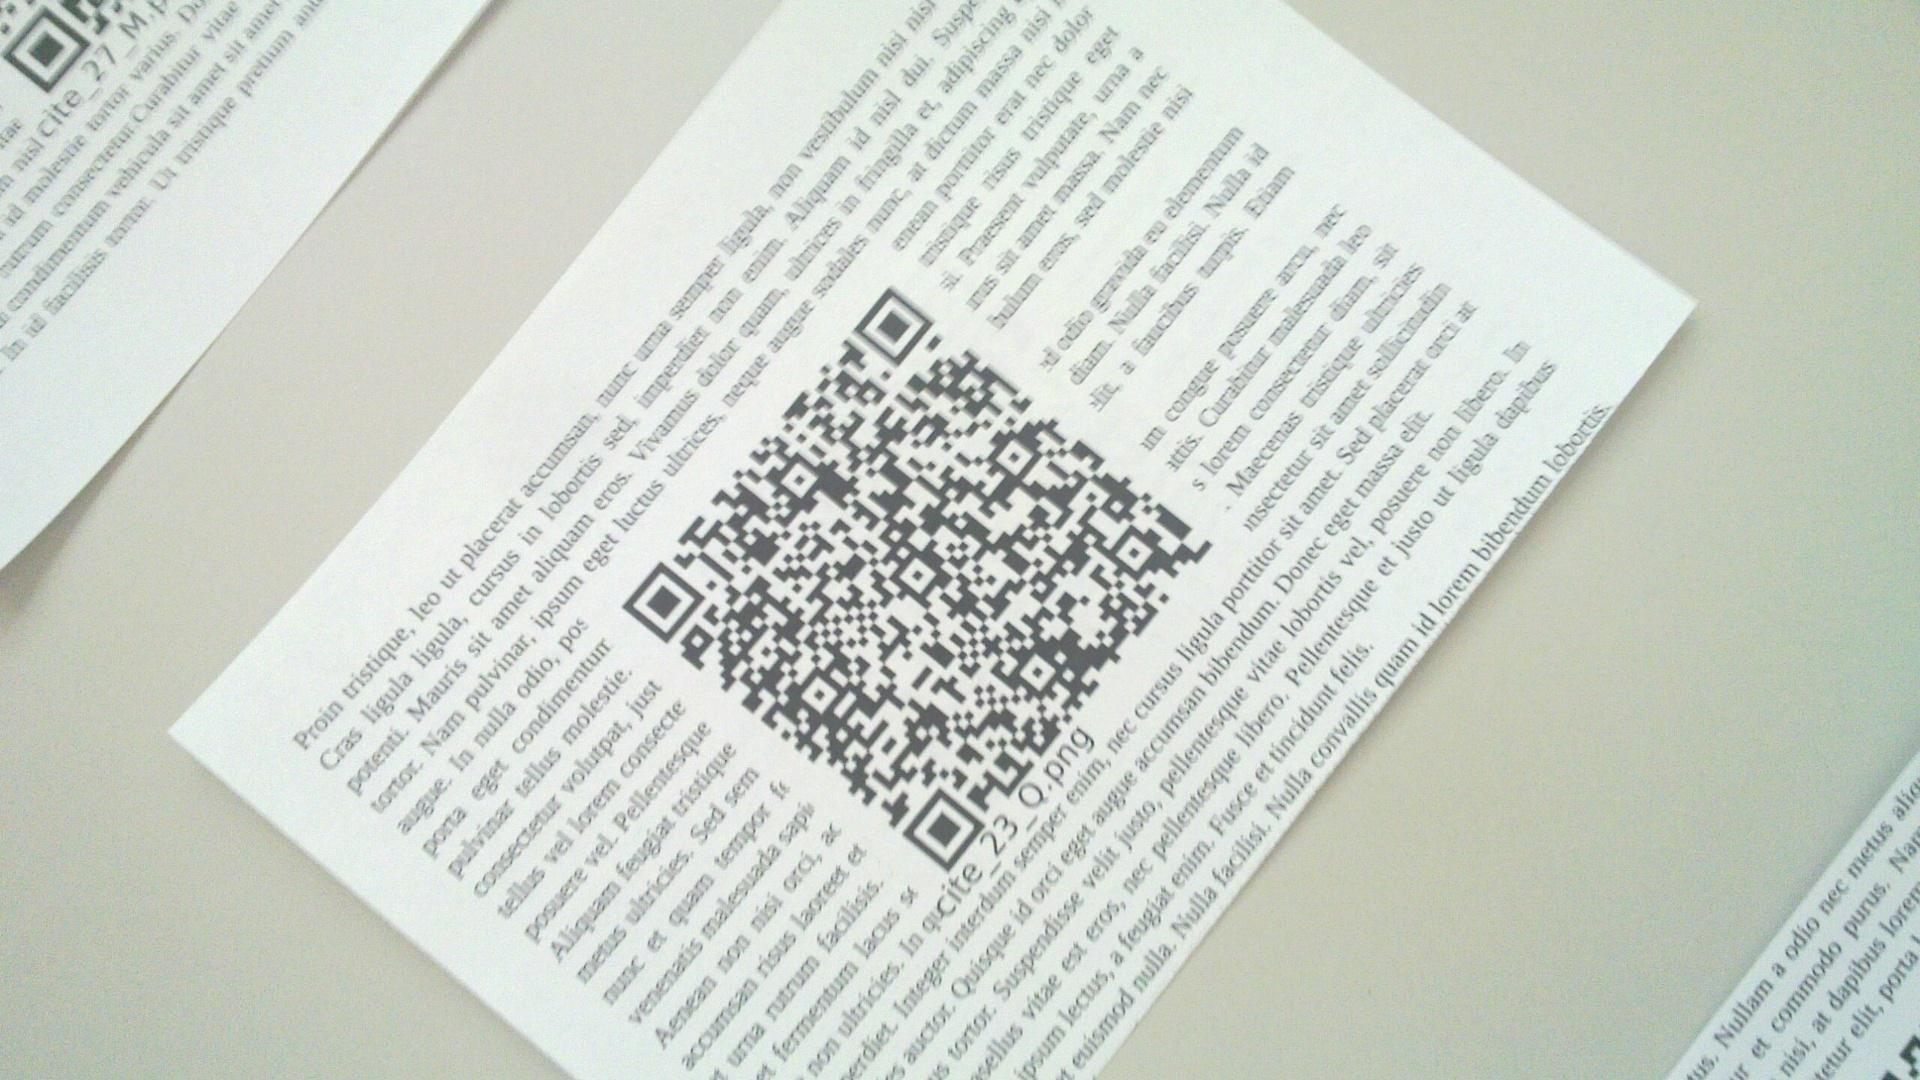Finder pattern: (905, 789, 981, 872), (851, 291, 932, 364), (621, 571, 702, 644)
